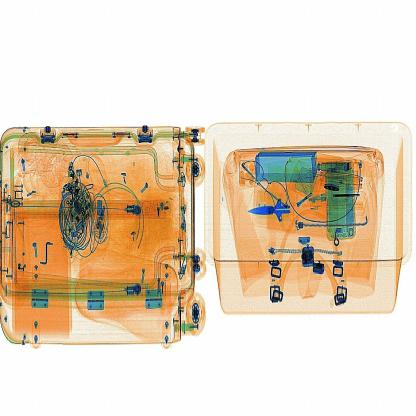gun: (243, 178, 305, 239)
